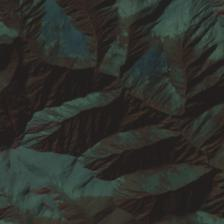landslides: (41, 69, 55, 104), (29, 62, 43, 78), (105, 94, 117, 104), (119, 142, 130, 152)
